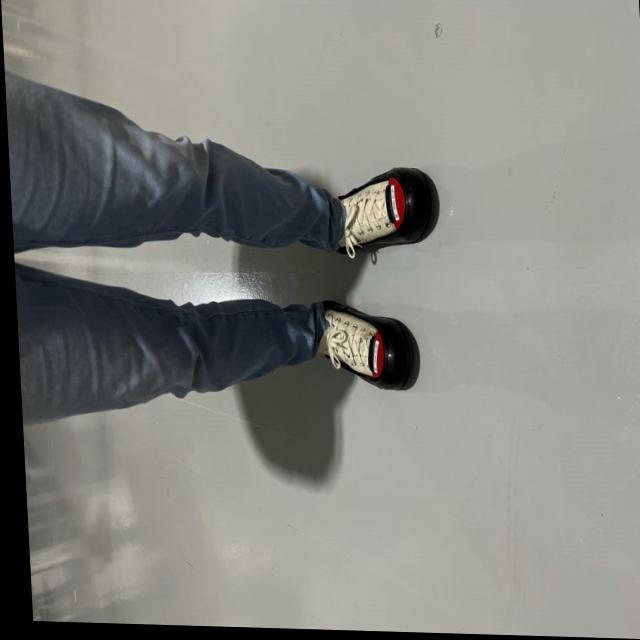shoes: (323, 160, 444, 264), (314, 297, 422, 388)
